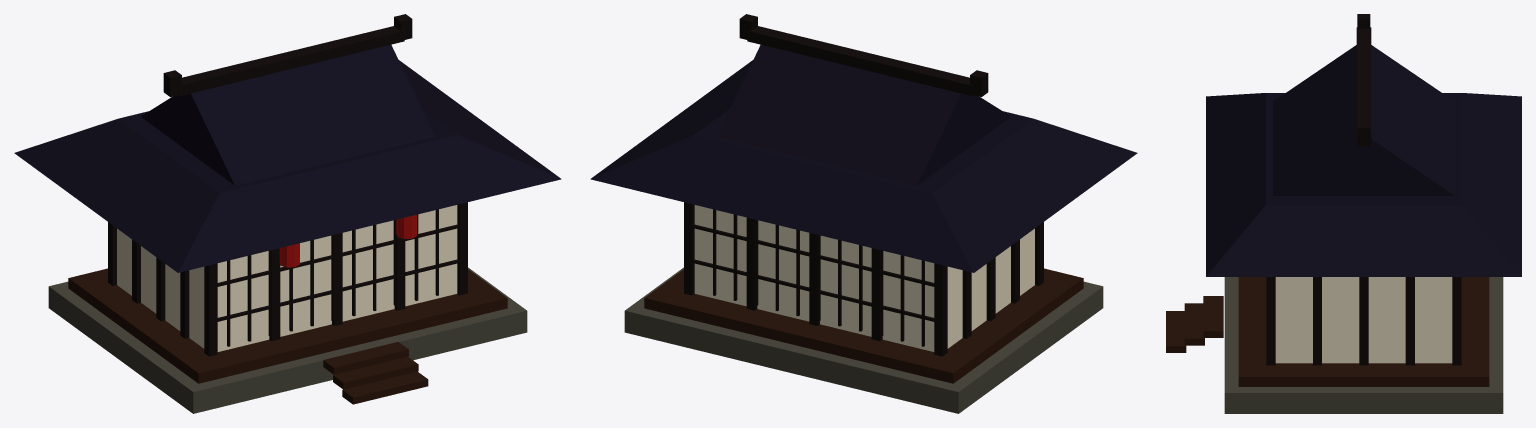
The model's file is japanese_house.glb.
The picture shows the model from 3 angles, left to right: view 1: azimuth 30°, elevation 25°; view 2: azimuth 150°, elevation 25°; view 3: azimuth 270°, elevation 25°; orthographic projection. The views are drawn at different scales.
Parts seen in each view (by area): view 1: japanese_house; view 2: japanese_house; view 3: japanese_house.
Part boxes in pixels (<box>): japanese_house: <box>14,14,561,413</box>; japanese_house: <box>590,14,1137,413</box>; japanese_house: <box>1166,14,1521,413</box>.
Bounding box in the file's own units: 4.6 × 3.14 × 3.83.
Materials: 2 (2 with a texture image).
